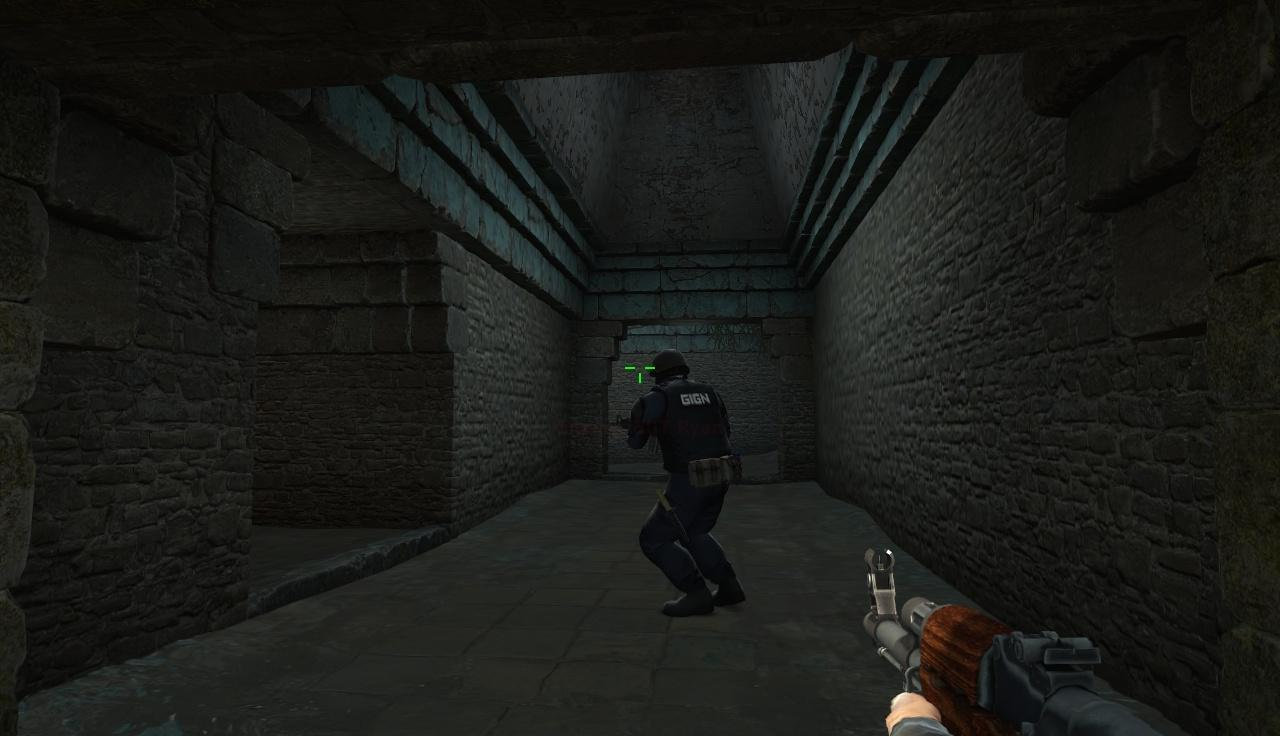ct: (628, 357, 731, 612)
cthead: (653, 352, 694, 393)
rifle: (870, 551, 1216, 736)
